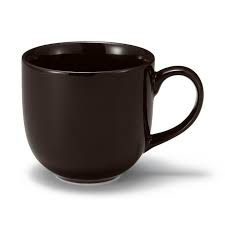mug: (4, 37, 210, 192)
